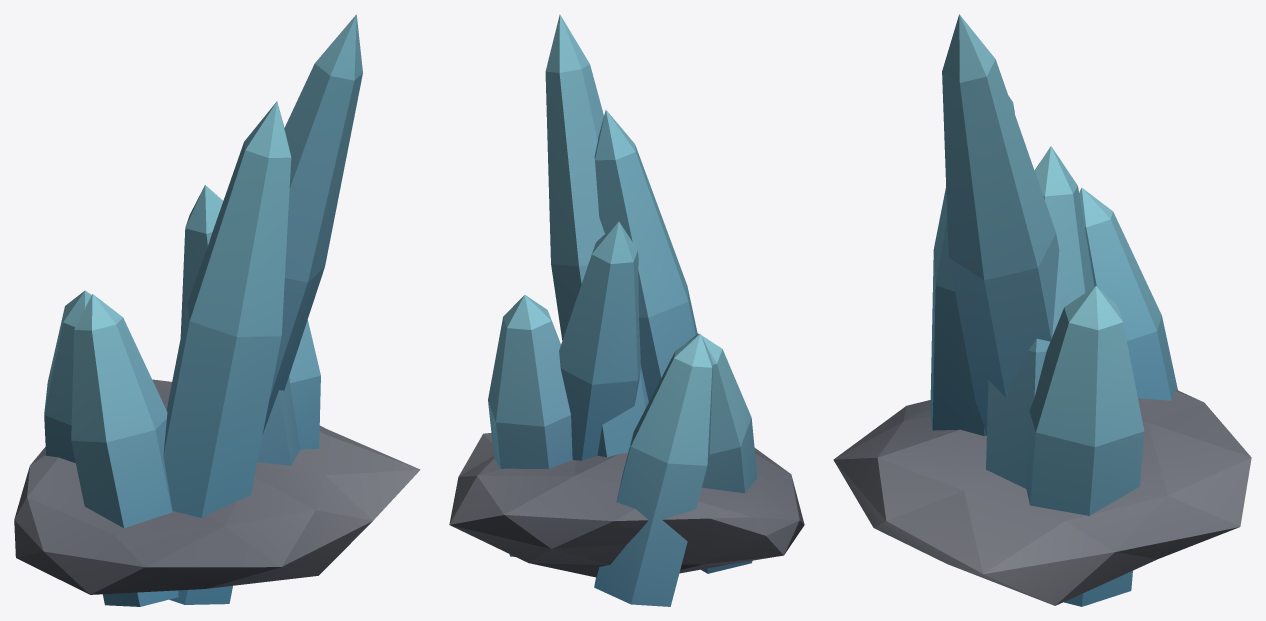
Rendered from world_crystal_a.fbx.
The picture shows the model from 3 angles, left to right: view 1: azimuth 30°, elevation 25°; view 2: azimuth 150°, elevation 25°; view 3: azimuth 270°, elevation 25°; orthographic projection. The views are drawn at different scales.
Visible parts, largest first — view 1: world_crystal_a; view 2: world_crystal_a; view 3: world_crystal_a.
Boxes of the visible parts, x1=… form: world_crystal_a: x1=14, y1=14, x2=420, y2=606; world_crystal_a: x1=449, y1=14, x2=804, y2=606; world_crystal_a: x1=833, y1=14, x2=1251, y2=606.
Bounding box in the file's own units: 110 × 157 × 99.52.
